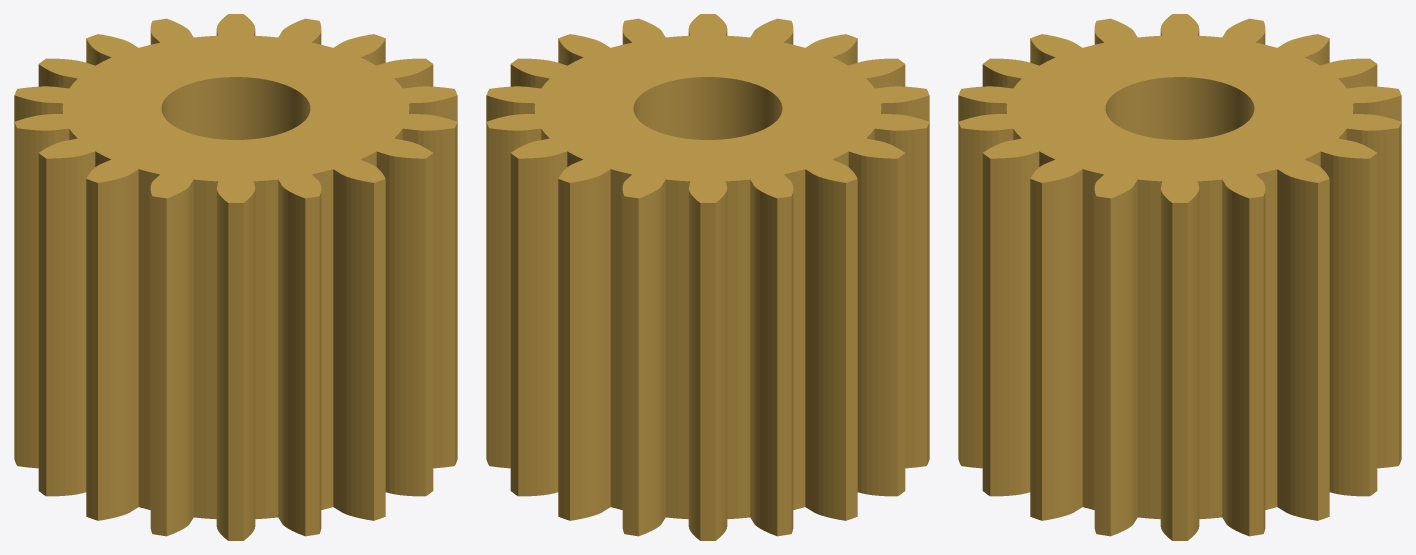
The model's file is gear_m03_z18_390755.glb.
3 renders of one model, left to right at view 1: azimuth 30°, elevation 25°; view 2: azimuth 150°, elevation 25°; view 3: azimuth 270°, elevation 25°, orthographic.
Parts seen in each view (by area): view 1: gear; view 2: gear; view 3: gear.
Boxes of the visible parts, x1,y1,x2,y2 form: gear: [14, 14, 457, 540]; gear: [486, 14, 929, 540]; gear: [958, 14, 1401, 540].
Size of the model in its own units: 0.006 by 0.005 by 0.00594.
